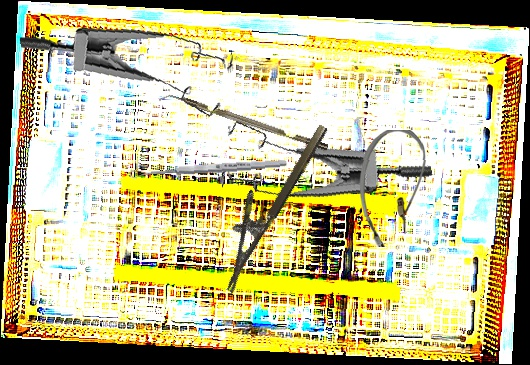Cannula: (358, 129, 429, 248)
Chopper: (158, 87, 329, 160)
Needle Holder: (199, 110, 331, 294)
Speculum: (207, 77, 434, 229), (19, 8, 240, 140)
Surgical Spoon: (128, 157, 288, 180)
